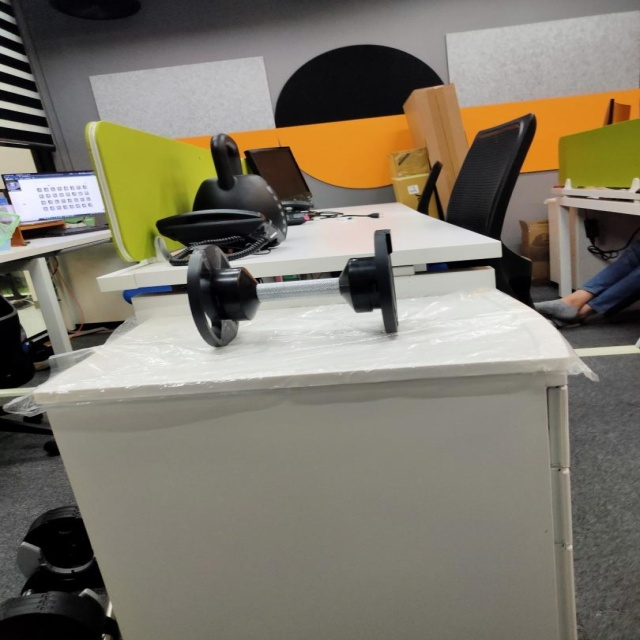01-2kg: (187, 229, 400, 348)
